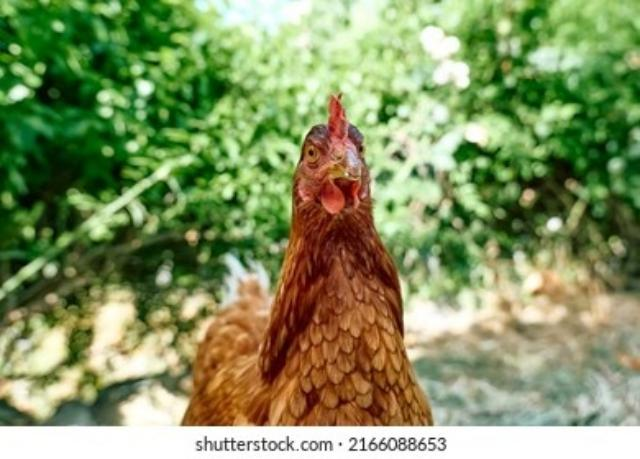Chicken: (180, 92, 435, 426)
